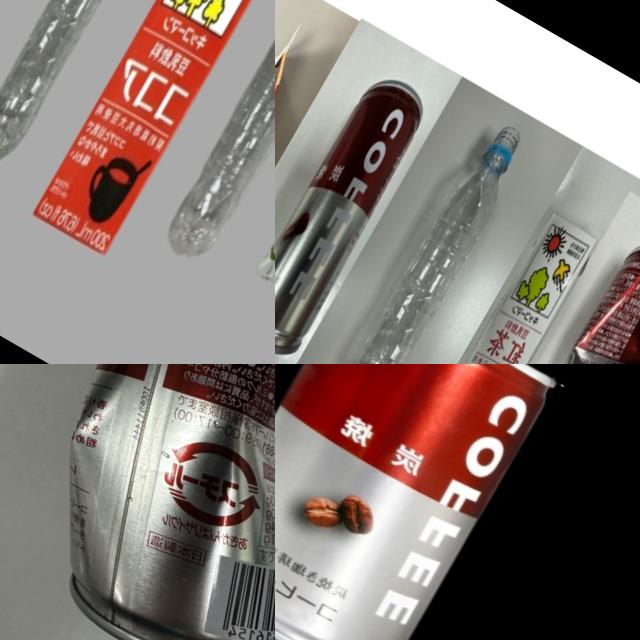Aluminium Foil: (20, 0, 275, 270), (423, 199, 606, 364), (275, 19, 344, 318)
Can: (275, 364, 579, 640), (0, 364, 275, 640), (275, 62, 444, 364), (498, 222, 640, 364)
Transparent Plastic Bottle: (325, 111, 539, 364), (0, 0, 198, 178), (151, 0, 275, 271)
